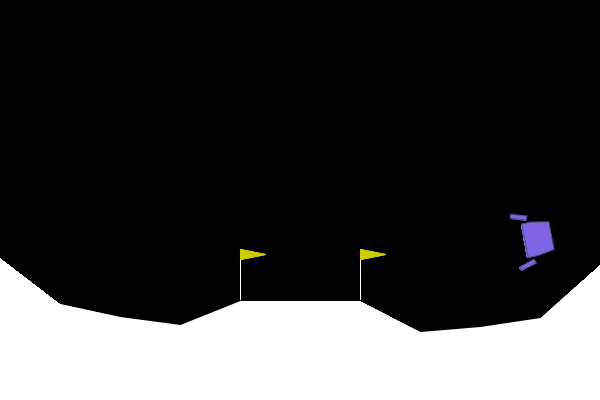lander: (508, 206, 559, 273)
